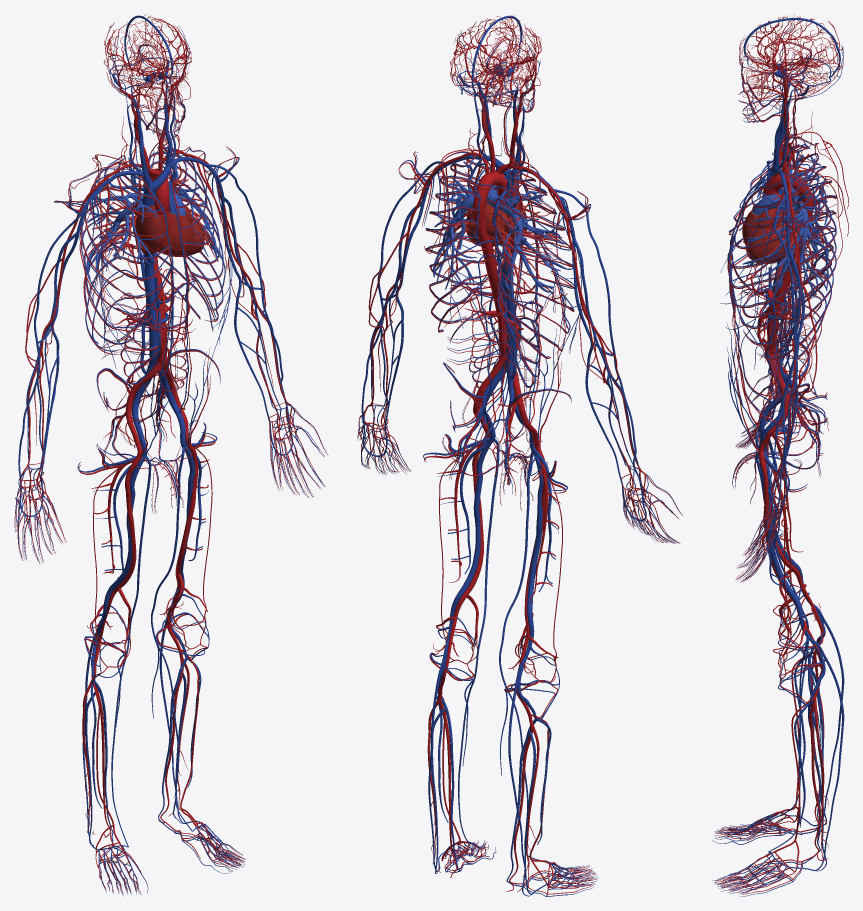
File: vessels.glb
3 renders of one model, left to right at view 1: azimuth 30°, elevation 25°; view 2: azimuth 150°, elevation 25°; view 3: azimuth 270°, elevation 25°, orthographic. The views are drawn at different scales.
Visible parts, largest first — view 1: Right_superior_intercostal_vein, Posterior_intercostal_arteries_r, Left_superior_intercostal_vein, Great_saphenous_vein_l, Right_atrium, Great_saphenous_vein_r, Right_ventricle, Femoral_artery_r, Posterior_intercostal_arteries_l, Cephalic_vein_r, Femoral_artery_l, Cephalic_vein_l (+2 smaller); view 2: Posterior_intercostal_arteries_r, Right_superior_intercostal_vein, Left_superior_intercostal_vein, Posterior_intercostal_arteries_l, Great_saphenous_vein_l, Great_saphenous_vein_r, Femoral_vein_l, Femoral_vein_r, Cephalic_vein_r, Thoracic_aorta, Basilic_vein_r, Femoral_artery_l (+4 smaller); view 3: Left_superior_intercostal_vein, Posterior_intercostal_arteries_l, Cephalic_vein_l, Right_superior_intercostal_vein, Left_ventricle, Small_saphenous_vein_l, Femoral_artery_l, Great_saphenous_vein_r, Abdominal_aorta, Great_saphenous_vein_l, Small_saphenous_vein_r, Posterior_intercostal_arteries_r (+24 smaller).
Boxes of the visible parts, x1=… form: Right_superior_intercostal_vein: x1=81, y1=155, x2=172, y2=351; Posterior_intercostal_arteries_r: x1=79, y1=163, x2=169, y2=354; Left_superior_intercostal_vein: x1=144, y1=147, x2=225, y2=330; Great_saphenous_vein_l: x1=151, y1=447, x2=192, y2=831; Right_atrium: x1=135, y1=205, x2=170, y2=254; Great_saphenous_vein_r: x1=111, y1=456, x2=151, y2=846; Right_ventricle: x1=155, y1=211, x2=197, y2=256; Femoral_artery_r: x1=115, y1=431, x2=142, y2=590; Posterior_intercostal_arteries_l: x1=149, y1=153, x2=225, y2=331; Cephalic_vein_r: x1=18, y1=187, x2=101, y2=488; Femoral_artery_l: x1=175, y1=419, x2=198, y2=575; Cephalic_vein_l: x1=202, y1=162, x2=289, y2=422; Posterior_intercostal_arteries_r: x1=478, y1=187, x2=574, y2=358; Right_superior_intercostal_vein: x1=492, y1=170, x2=574, y2=357; Left_superior_intercostal_vein: x1=425, y1=156, x2=502, y2=331; Posterior_intercostal_arteries_l: x1=425, y1=177, x2=501, y2=332; Great_saphenous_vein_l: x1=458, y1=439, x2=499, y2=845; Great_saphenous_vein_r: x1=499, y1=451, x2=539, y2=859; Femoral_vein_l: x1=459, y1=423, x2=495, y2=594; Femoral_vein_r: x1=527, y1=435, x2=543, y2=609; Cephalic_vein_r: x1=554, y1=189, x2=643, y2=496; Thoracic_aorta: x1=472, y1=196, x2=497, y2=275; Basilic_vein_r: x1=572, y1=238, x2=622, y2=483; Femoral_artery_l: x1=462, y1=419, x2=489, y2=598; Left_superior_intercostal_vein: x1=729, y1=163, x2=836, y2=358; Posterior_intercostal_arteries_l: x1=729, y1=175, x2=836, y2=359; Cephalic_vein_l: x1=774, y1=197, x2=796, y2=519; Right_superior_intercostal_vein: x1=729, y1=144, x2=836, y2=304; Left_ventricle: x1=748, y1=224, x2=794, y2=263; Small_saphenous_vein_l: x1=803, y1=640, x2=844, y2=871; Femoral_artery_l: x1=759, y1=431, x2=793, y2=601; Great_saphenous_vein_r: x1=755, y1=432, x2=820, y2=820; Abdominal_aorta: x1=764, y1=266, x2=793, y2=354; Great_saphenous_vein_l: x1=755, y1=452, x2=820, y2=851; Small_saphenous_vein_r: x1=803, y1=604, x2=844, y2=826; Posterior_intercostal_arteries_r: x1=729, y1=153, x2=836, y2=308.
Bounding box in the file's own units: 0.664 × 1.7 × 0.2489.
